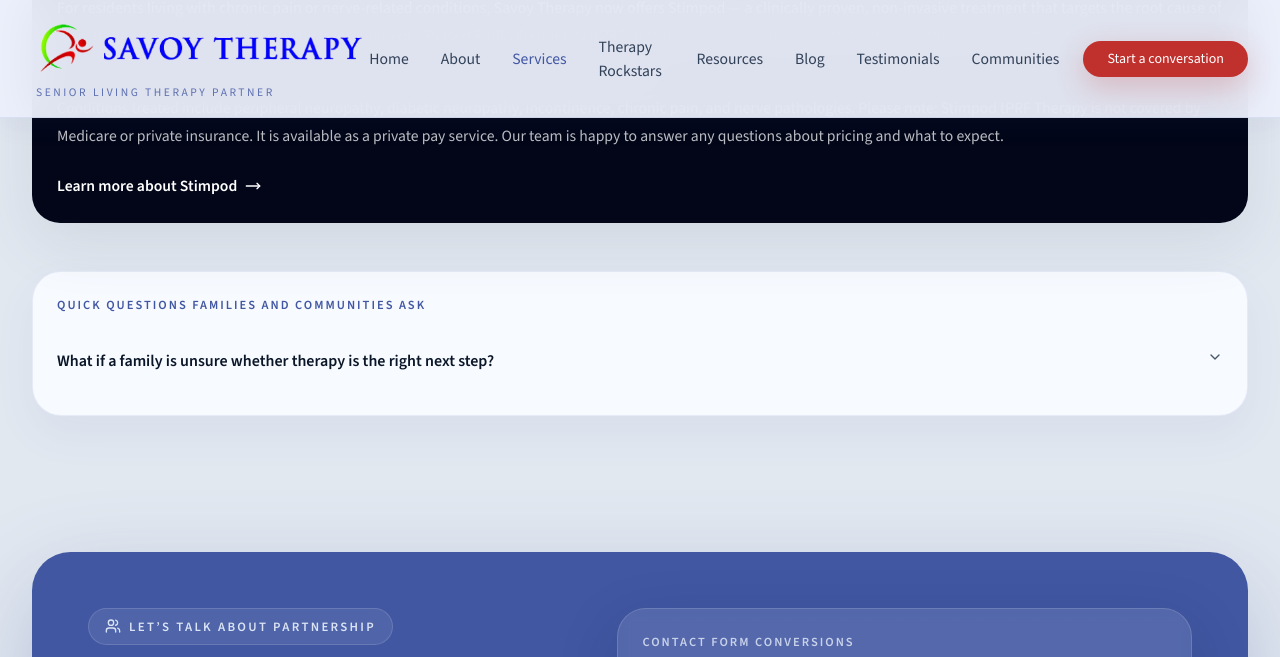
Test case: Services page › reveals the mirrored family FAQ answer and complimentary-assessment CTA when expanded
(page scrolled)
Click the button: (276, 360) [57,331,1223,391]
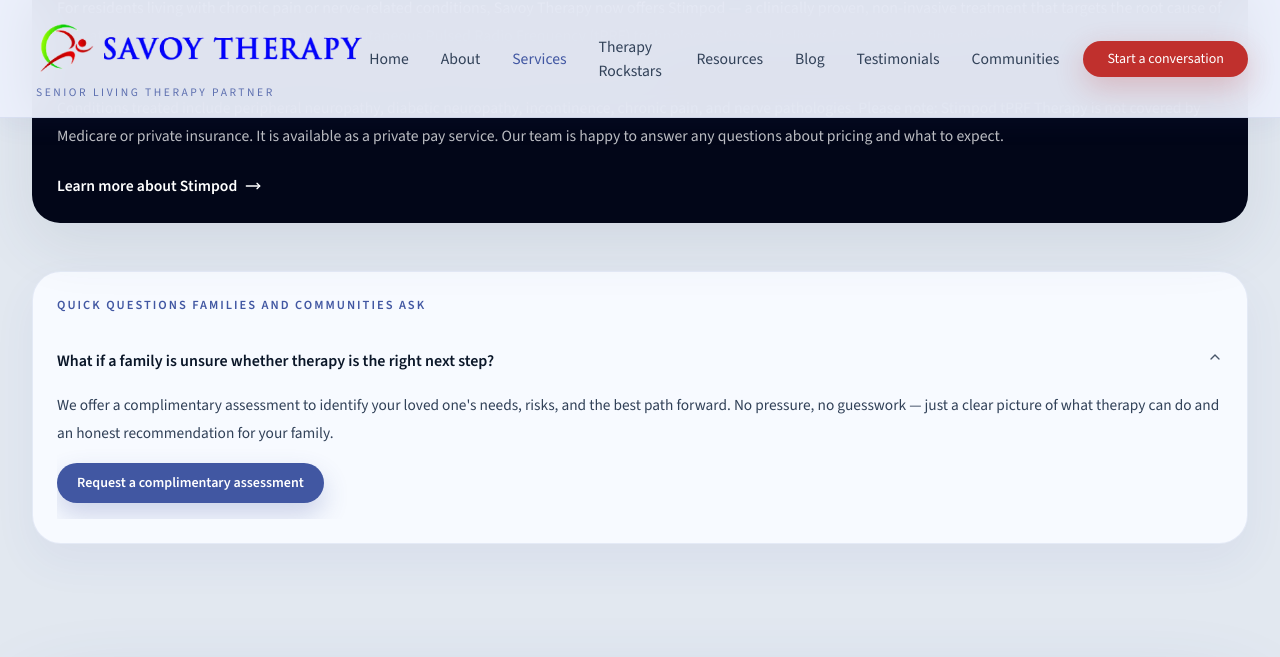
Check: the text "We offer a complimentary assessment to identify your loved one's needs, risks, and the best path forward. No pressure, no guesswork — just a clear picture of wh" is shown, box [57,395,1219,443]
Check: the text "Request a complimentary assessment" is shown, box [57,463,324,503]
